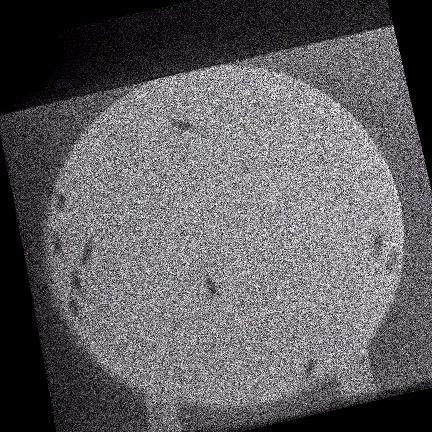fly: (79, 239, 94, 266), (171, 119, 196, 132), (302, 355, 316, 378), (385, 248, 398, 272), (68, 268, 81, 292), (371, 228, 382, 256), (203, 275, 217, 297), (53, 189, 66, 212), (66, 297, 80, 317), (49, 233, 61, 256)
